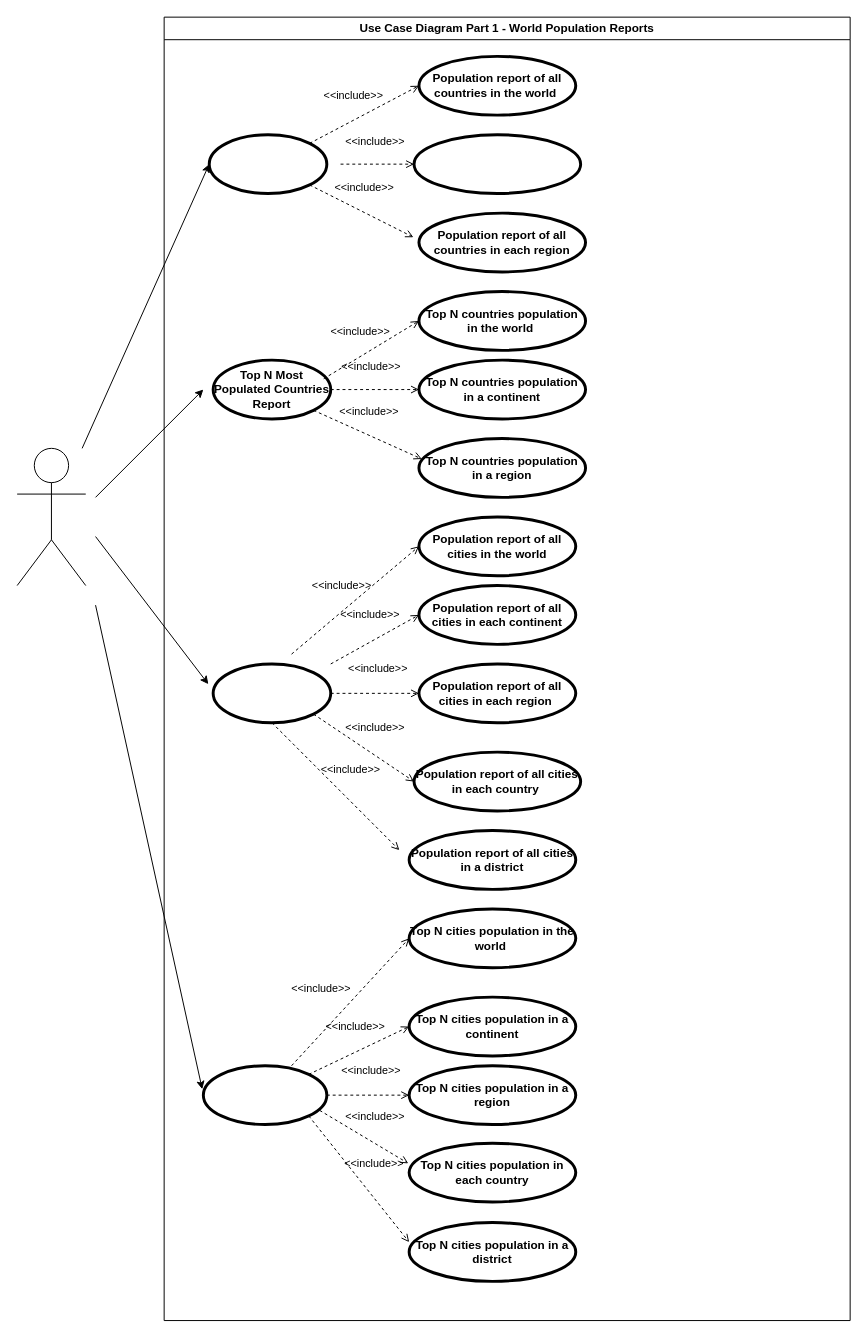
Some shapes in this 867 by 1338 pixel diagram are drawn without their labels. Here are the shapes that lost their labels. From the top down, the box of each, then its label:
(207, 133, 328, 195): All Countries Population report
(412, 133, 582, 195): Population report of all countries in each continent
(16, 447, 86, 586): Data Analyst
(211, 662, 332, 724): All Cities Population report
(201, 1064, 328, 1126): Top N Most Populated Cities Report
